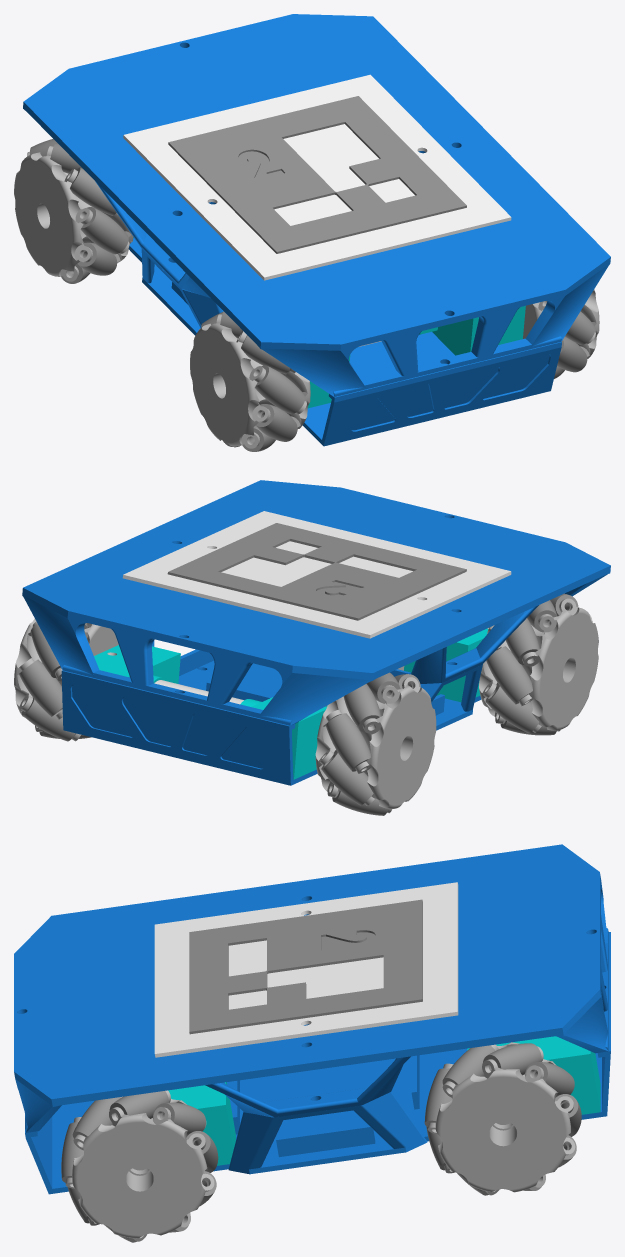
The model's file is mecanum-robot.glb.
3 views of the same model, one above another, from view 1: azimuth 30°, elevation 25°; view 2: azimuth 150°, elevation 25°; view 3: azimuth 270°, elevation 25° (orthographic). The views are drawn at different scales.
Parts seen in each view (by area): view 1: plate2-1, aruco2-1, PlateOmniDown-1, mecanum-1 (×3), rollerMecanum-7 (×2), rollerMecanum-6 (×2), mecanumRobot, rollerMecanum-5, rollerMecanum-3, rollerMecanum-8, rollerMecanum-2; view 2: plate2-1, aruco2-1, PlateOmniDown-1, mecanum-1 (×3), rollerMecanum-2 (×3), rollerMecanum-3 (×3), rollerMecanum-1 (×2), motor-1, mecanumRobot, rollerMecanum-9 (×2), motor-2, rollerMecanum-4 (+1 smaller); view 3: plate2-1, aruco2-1, mecanum-1 (×2), PlateOmniDown-1, mecanumRobot, rollerMecanum-7 (×2), rollerMecanum-5, rollerMecanum-6, rollerMecanum-9, rollerMecanum-8, rollerMecanum-1, rollerMecanum-4 (+1 smaller).
Boxes of the visible parts, x1,y1,x2,y2 form: plate2-1: [23, 14, 610, 396]; aruco2-1: [123, 74, 511, 280]; PlateOmniDown-1: [128, 238, 561, 446]; mecanum-1 (×3): [14, 146, 599, 448]; rollerMecanum-7 (×2): [70, 167, 305, 414]; rollerMecanum-6 (×2): [80, 207, 297, 441]; mecanumRobot: [378, 305, 525, 355]; rollerMecanum-5: [77, 242, 117, 275]; rollerMecanum-3: [557, 337, 587, 372]; rollerMecanum-8: [241, 335, 290, 374]; rollerMecanum-2: [565, 311, 595, 344]; plate2-1: [22, 480, 610, 725]; aruco2-1: [122, 511, 511, 638]; PlateOmniDown-1: [61, 640, 482, 785]; mecanum-1 (×3): [14, 598, 598, 813]; rollerMecanum-2 (×3): [22, 646, 532, 805]; rollerMecanum-3 (×3): [19, 659, 539, 815]; rollerMecanum-1 (×2): [325, 618, 539, 771]; motor-1: [194, 689, 327, 779]; mecanumRobot: [94, 645, 199, 692]; rollerMecanum-9 (×2): [343, 600, 557, 732]; motor-2: [397, 628, 488, 702]; rollerMecanum-4: [30, 624, 61, 677]; plate2-1: [14, 844, 608, 1132]; aruco2-1: [154, 882, 458, 1057]; mecanum-1 (×2): [65, 1042, 575, 1241]; PlateOmniDown-1: [25, 932, 610, 1194]; mecanumRobot: [168, 1036, 600, 1165]; rollerMecanum-7 (×2): [186, 1068, 452, 1172]; rollerMecanum-5: [483, 1043, 541, 1075]; rollerMecanum-6: [442, 1045, 495, 1084]; rollerMecanum-9: [109, 1091, 168, 1118]; rollerMecanum-8: [153, 1102, 205, 1136]; rollerMecanum-1: [72, 1097, 121, 1138]; rollerMecanum-4: [525, 1062, 574, 1097].
Bounding box in the file's own units: 0.1661 × 0.0925 × 0.22.
